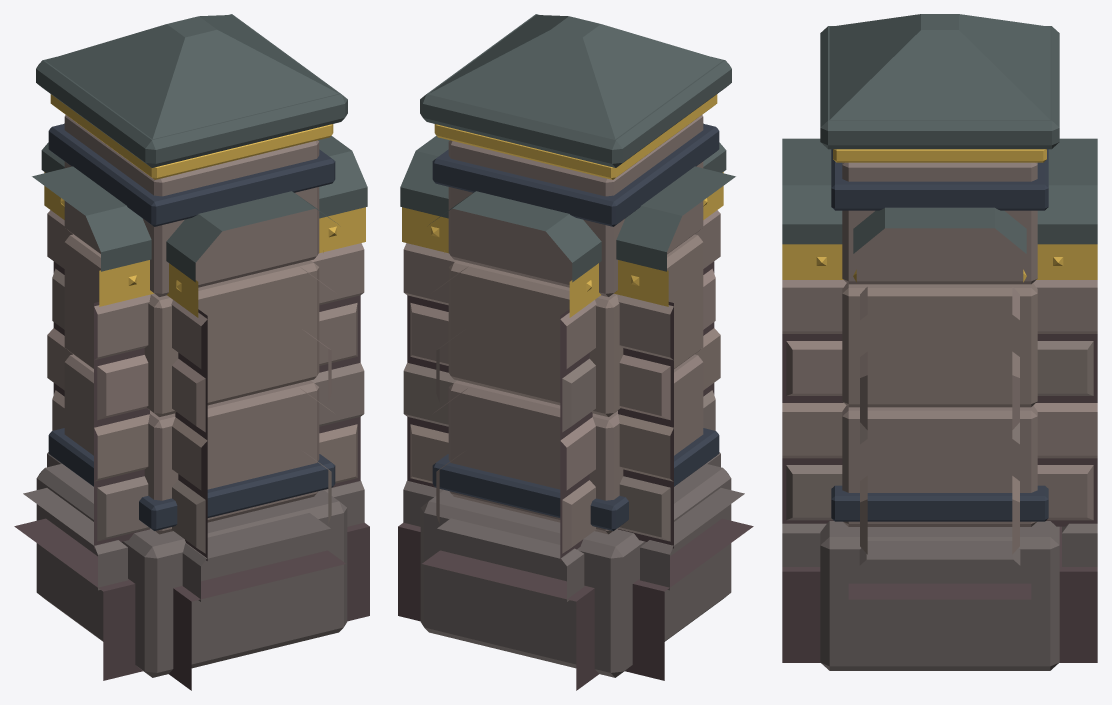
The model's file is stone_wall_cross.glb.
3 views of the same model, side by side, from view 1: azimuth 30°, elevation 25°; view 2: azimuth 150°, elevation 25°; view 3: azimuth 270°, elevation 25° (orthographic). The views are drawn at different scales.
Visible parts, largest first — view 1: body; view 2: body; view 3: body.
Part boxes in pixels (x1,y1,x2,y2): body: (14, 14, 369, 690); body: (398, 14, 753, 690); body: (782, 14, 1097, 670).
Size of the model in its own units: 1 by 2.11 by 1.
